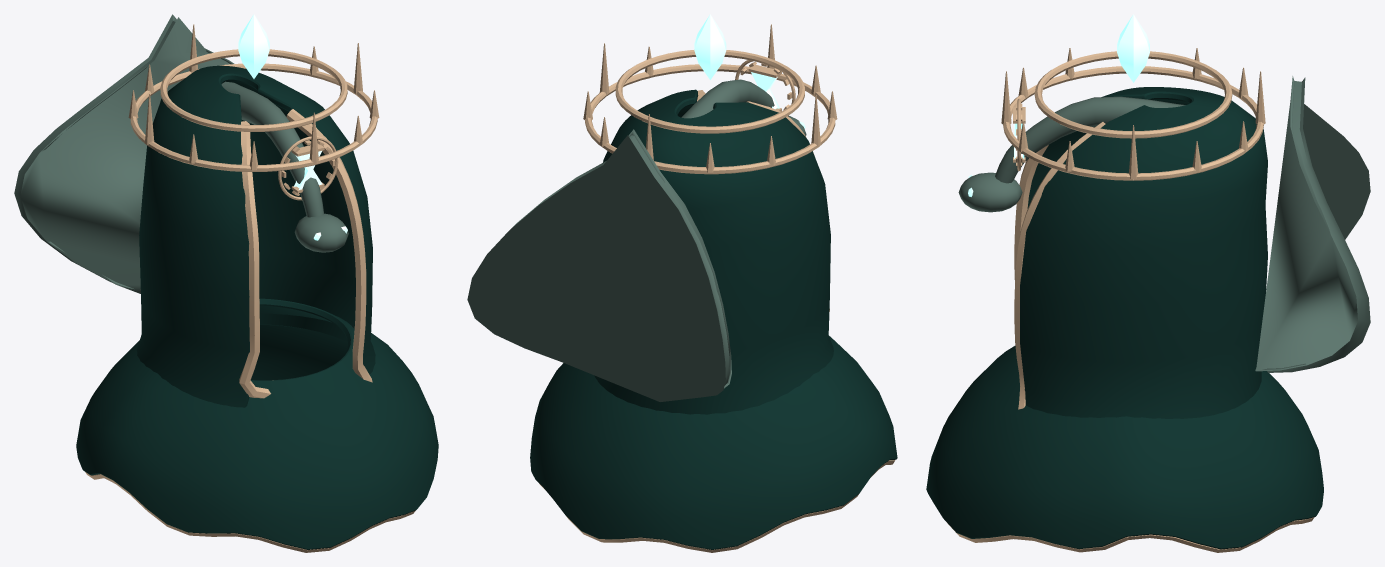
The model's file is asc_ouroboros_fang_helm.glb.
3 renders of one model, left to right at view 1: azimuth 30°, elevation 25°; view 2: azimuth 150°, elevation 25°; view 3: azimuth 270°, elevation 25°, orthographic. The views are drawn at different scales.
Visible parts, largest first — view 1: asc_ouroboros_fang_helm; view 2: asc_ouroboros_fang_helm; view 3: asc_ouroboros_fang_helm.
Part boxes in pixels (<box>): asc_ouroboros_fang_helm: <box>14,14,438,552</box>; asc_ouroboros_fang_helm: <box>467,14,897,552</box>; asc_ouroboros_fang_helm: <box>926,14,1370,552</box>.
Size of the model in its own units: 0.6031 by 0.8468 by 0.6995.
